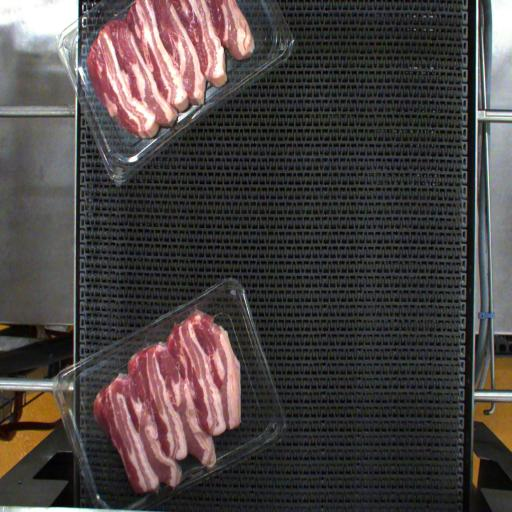packaging-error: (172, 292, 208, 328), (201, 454, 222, 484)
